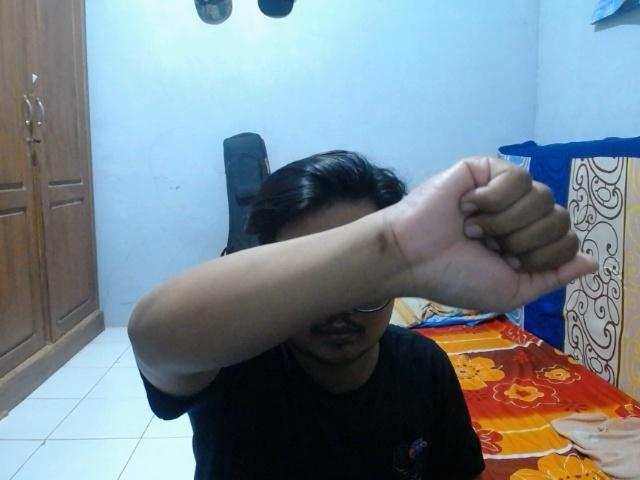Grab: (383, 150, 603, 317)
